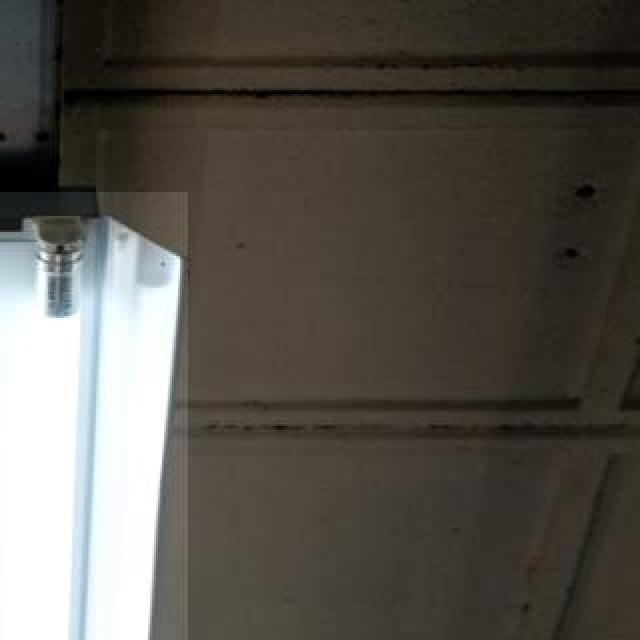fluorescent tube: (4, 180, 100, 640)
